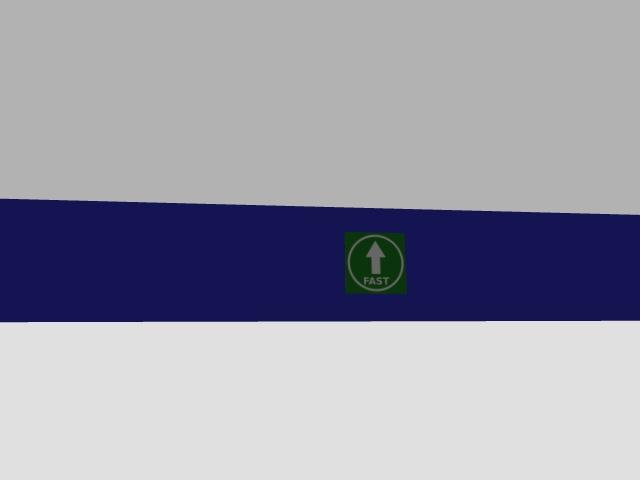fast: (346, 232, 405, 293)
